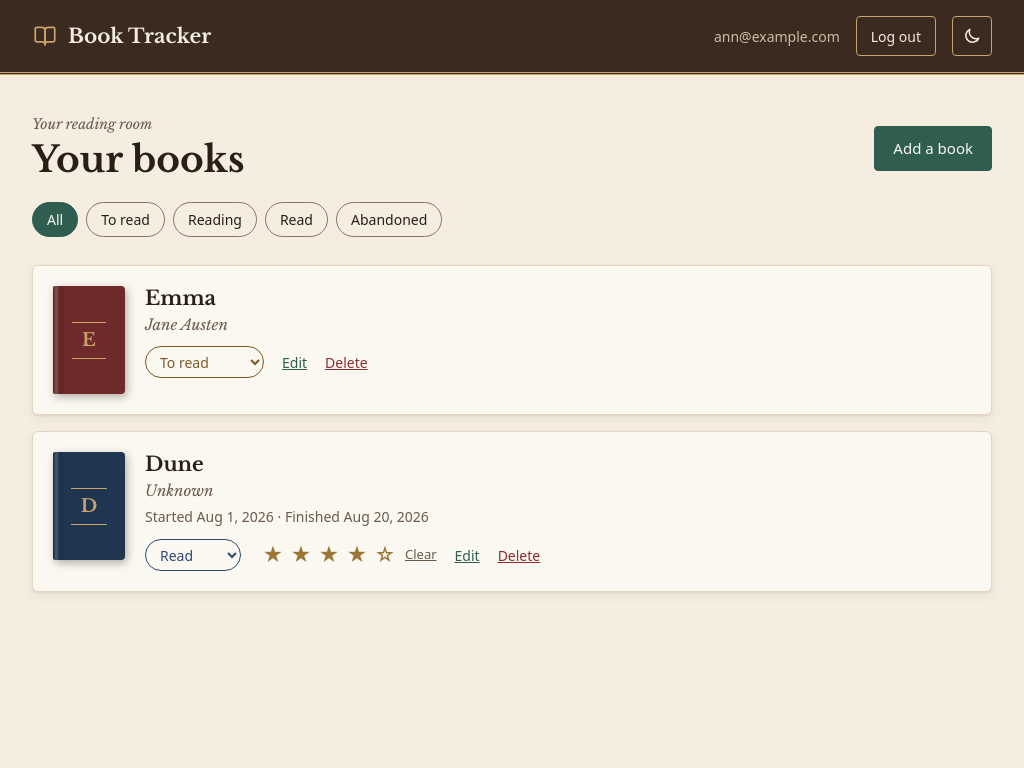
Test: deleting › removes the book once confirmed
The width and height of the screenshot is (1024, 768).
Click the button with aria-label "Delete Emma" at {"x": 346, "y": 362}, box [325,352,368,372]
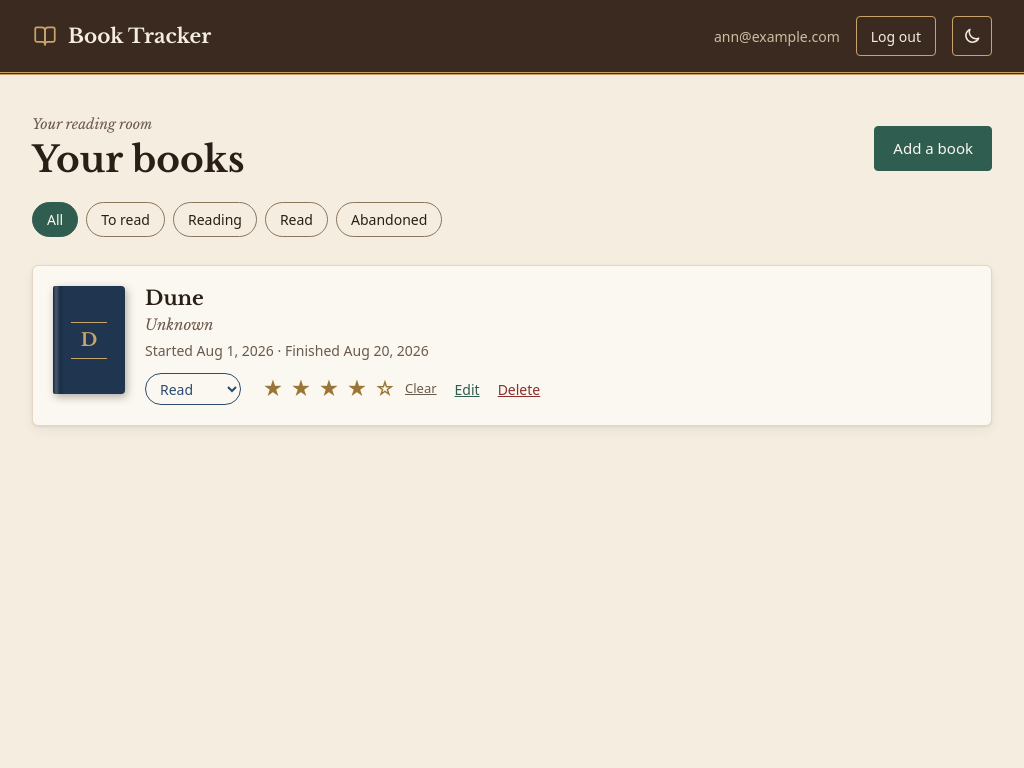
Expected: the heading "Dune" is shown, [145,286,204,310]
Result: the heading "Emma" is gone
